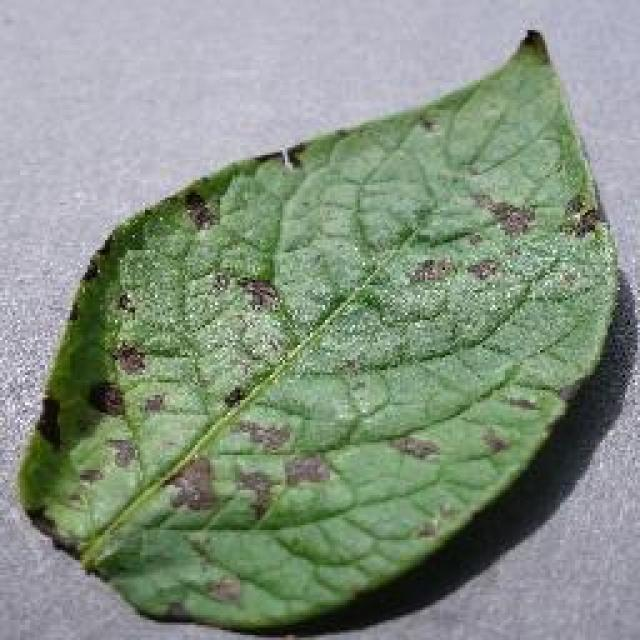early_blight: (13, 25, 625, 637)
